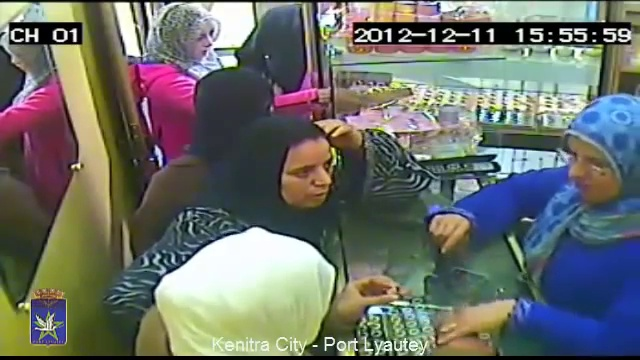face: (566, 141, 623, 204), (281, 160, 333, 205), (183, 22, 215, 58)
